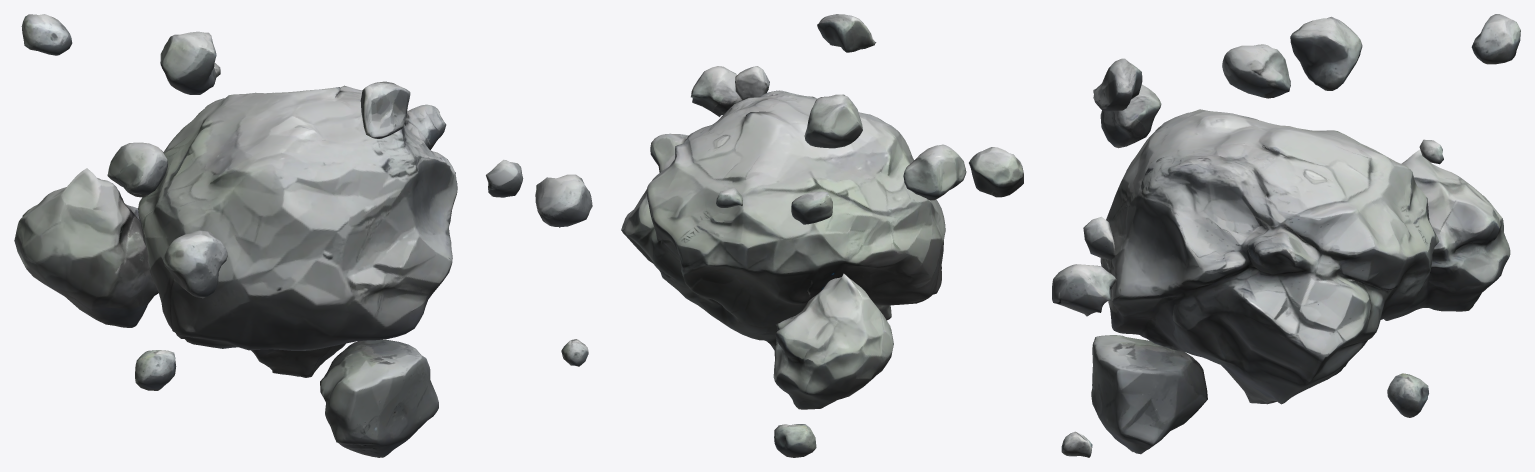
File: asteroid_1.glb
3 renders of one model, left to right at view 1: azimuth 30°, elevation 25°; view 2: azimuth 150°, elevation 25°; view 3: azimuth 270°, elevation 25°, orthographic. The views are drawn at different scales.
Bounding box in the file's own units: 1.96 × 1.84 × 1.99.
Materials: 1 (1 with a texture image).
